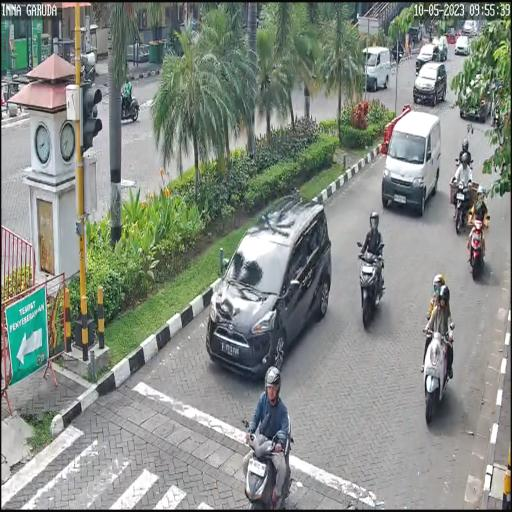mobil: (207, 193, 333, 382), (381, 110, 442, 214), (413, 60, 448, 108)
motor: (240, 412, 295, 512), (420, 313, 456, 425), (356, 240, 386, 331), (450, 172, 480, 234), (467, 206, 491, 282)
